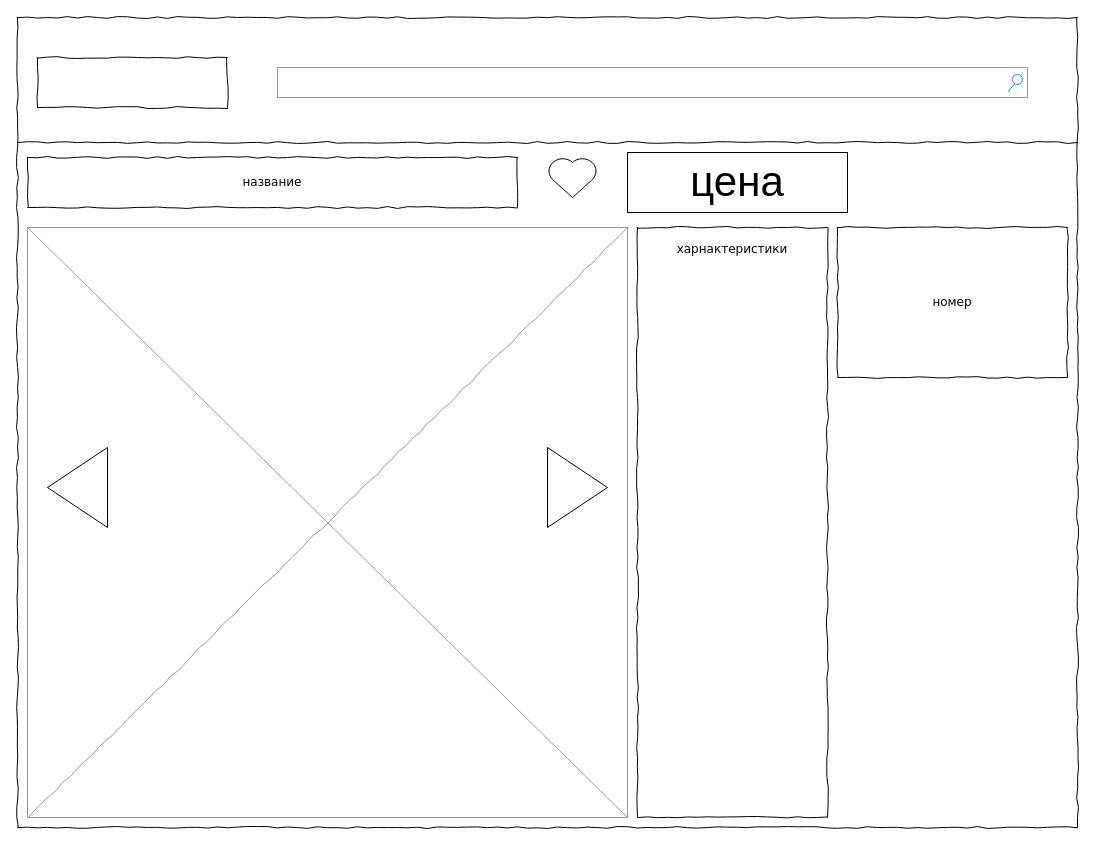
Some shapes in this 1095 by 845 pixel diagram are drawn without their labels. Each missing label, with the box of its shape:
LOGO: (36, 56, 228, 108)
Search: (276, 66, 1028, 98)
